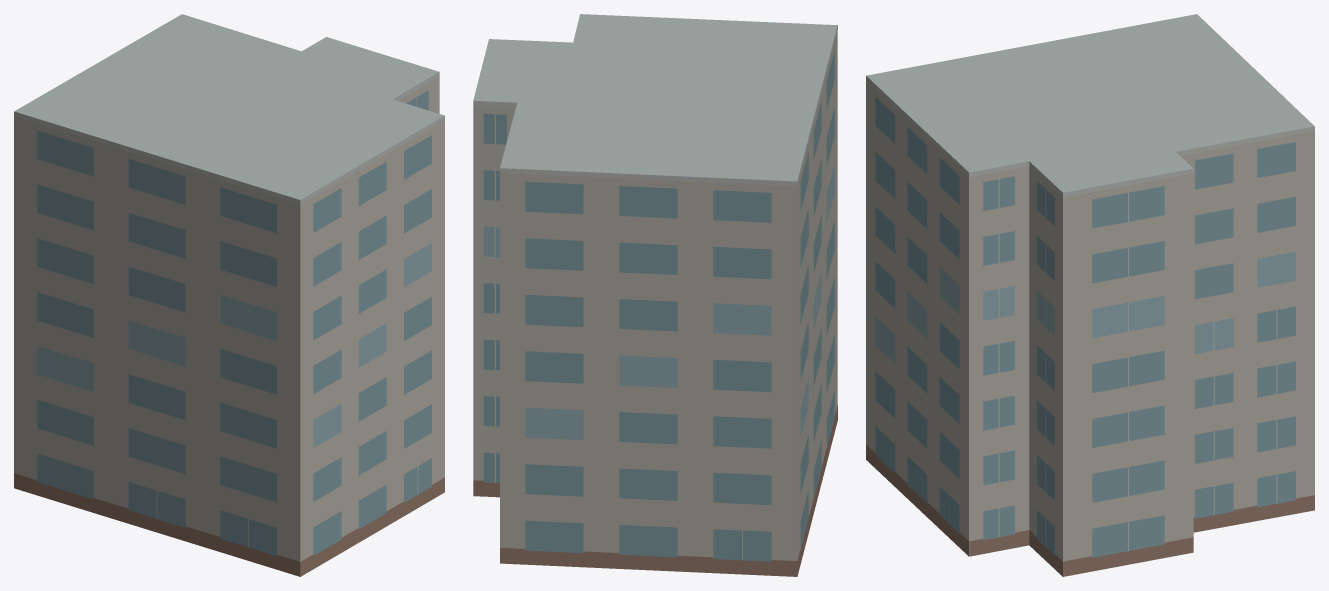
File: survey-upis-32703887.glb
3 renders of one model, left to right at view 1: azimuth 30°, elevation 25°; view 2: azimuth 150°, elevation 25°; view 3: azimuth 270°, elevation 25°, orthographic. The views are drawn at different scales.
Parts seen in each view (by area): view 1: survey-upis-32703887.tmp; view 2: survey-upis-32703887.tmp; view 3: survey-upis-32703887.tmp.
Part boxes in pixels (<box>): survey-upis-32703887.tmp: <box>14,14,444,576</box>; survey-upis-32703887.tmp: <box>473,14,837,576</box>; survey-upis-32703887.tmp: <box>866,14,1314,576</box>.
Size of the model in its own units: 19.63 by 19.65 by 20.82.
